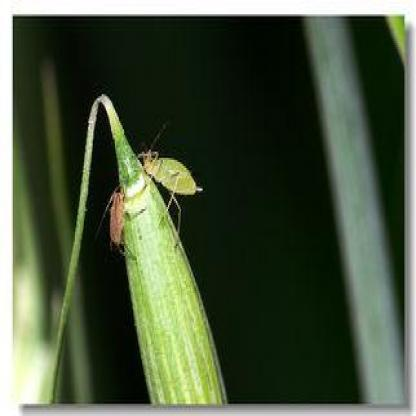aphid: (139, 130, 204, 238), (101, 176, 142, 254)
